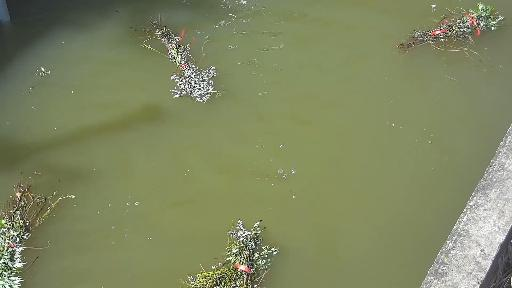twig: (166, 215, 293, 288), (0, 184, 86, 288), (136, 10, 227, 102), (399, 1, 512, 55)
